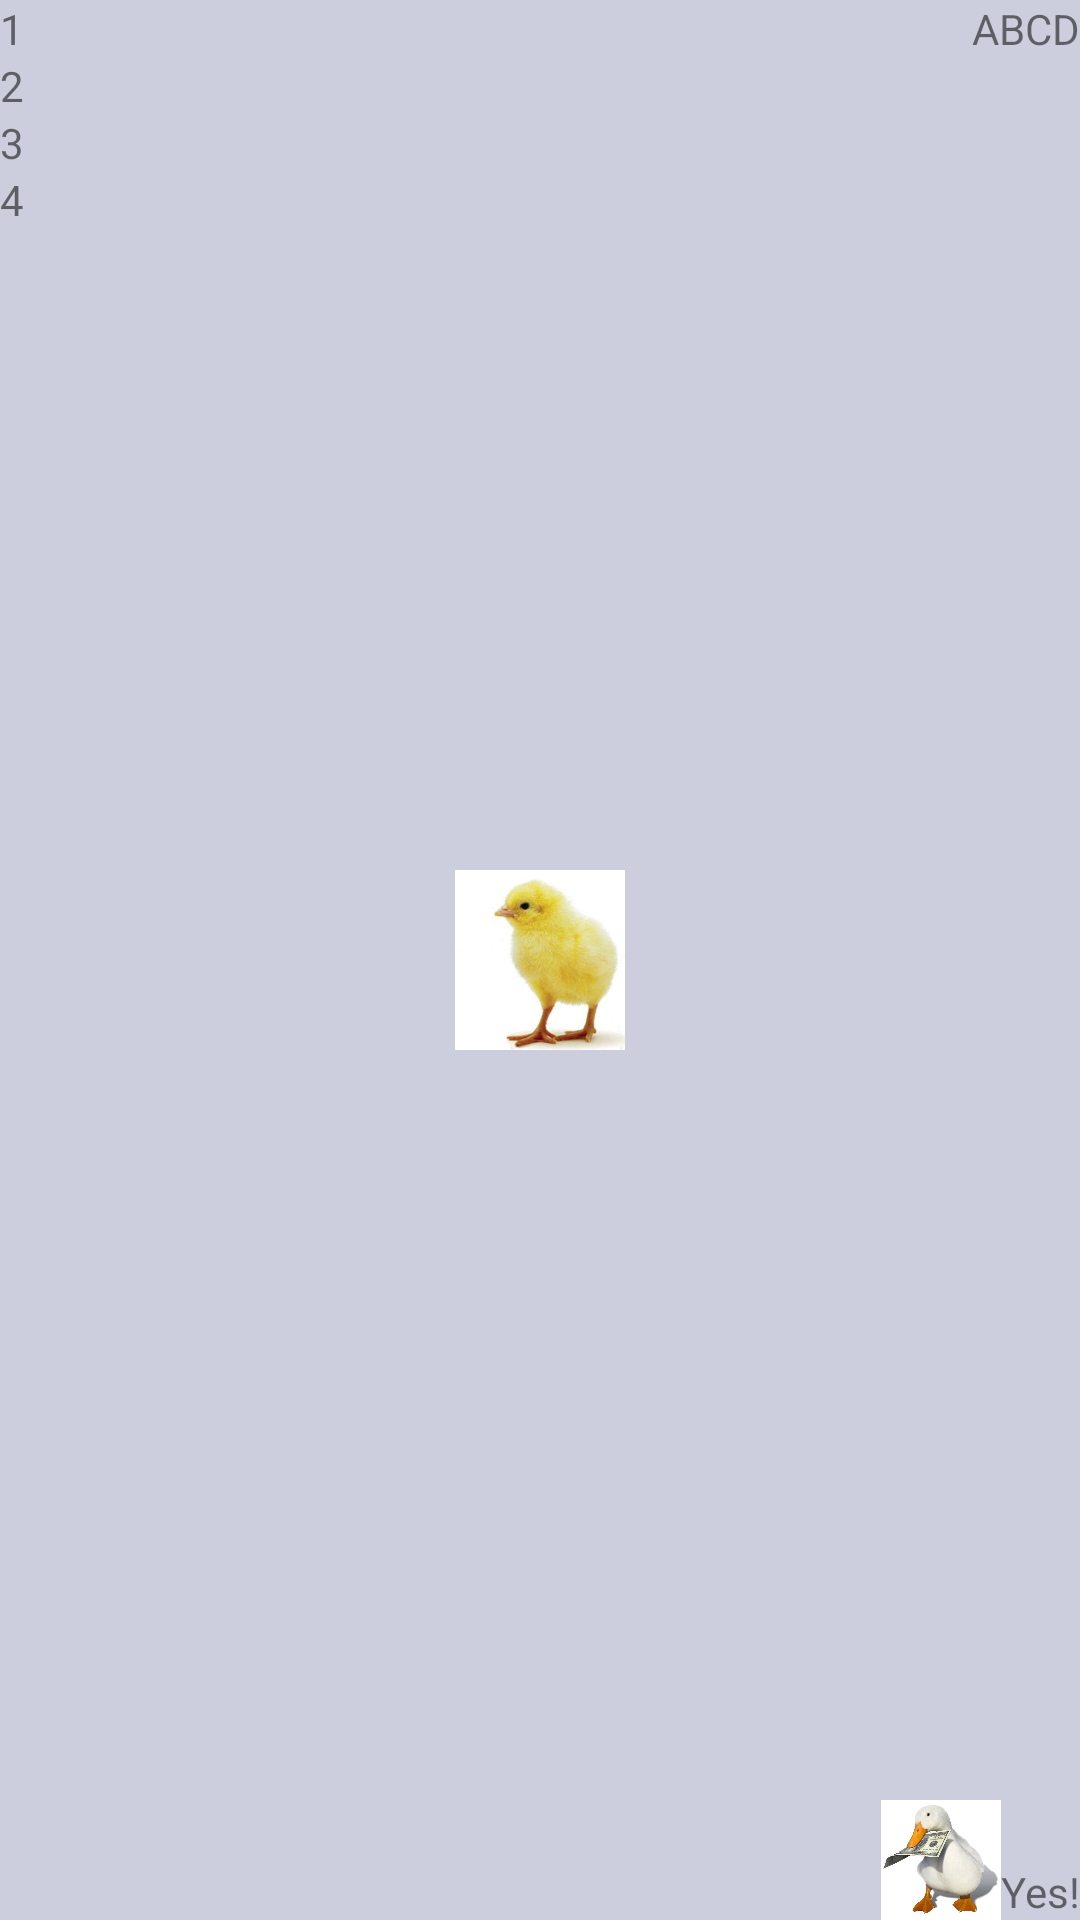

Locate icon controls on the screen. Image size 1080 x 1920, boxes as bbox=(x1, y1, x2, y2).
pato dolares: bbox=(881, 1800, 1001, 1920)
pollito: bbox=(455, 870, 625, 1050)
